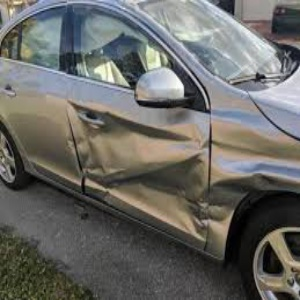door: (52, 104, 228, 231)
